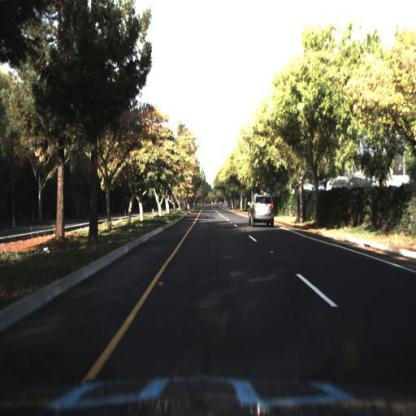car: (247, 192, 275, 226)
